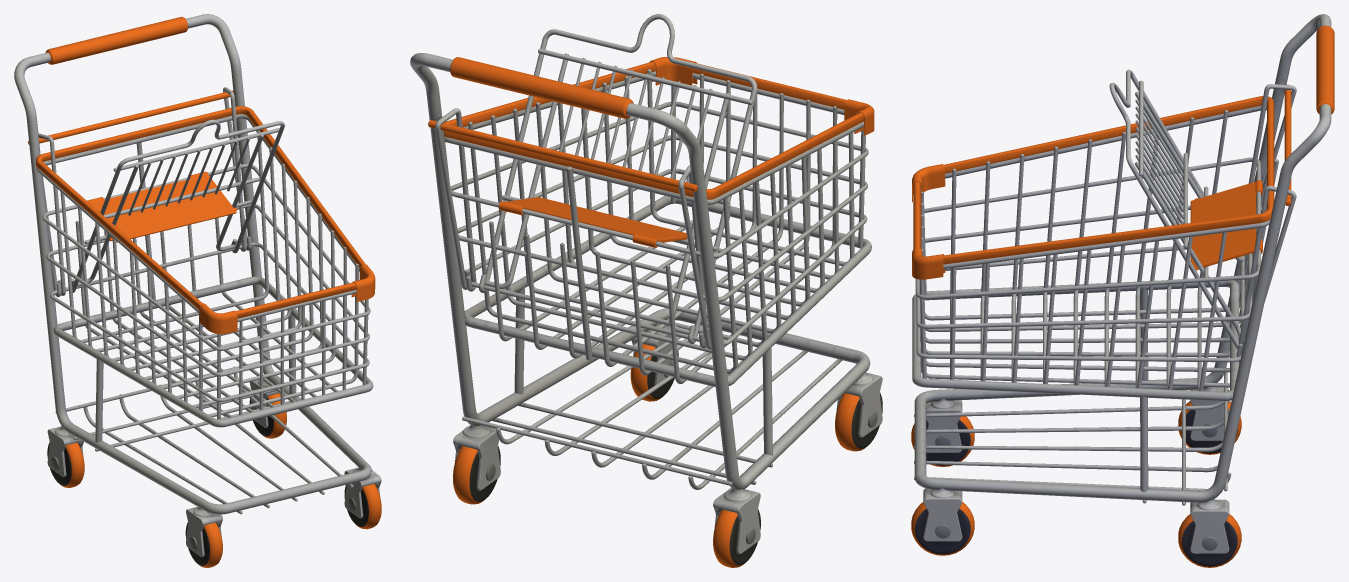
Rendered from carro_compra.glb.
3 renders of one model, left to right at view 1: azimuth 30°, elevation 25°; view 2: azimuth 150°, elevation 25°; view 3: azimuth 270°, elevation 25°, orthographic. The views are drawn at different scales.
Visible parts, largest first — view 1: shopping_cart.1, shopping_cart.002; view 2: shopping_cart.1, shopping_cart.002; view 3: shopping_cart.1, shopping_cart.002.
Boxes of the visible parts, x1,y1,x2,y2 form: shopping_cart.1: (14,14,381,565); shopping_cart.002: (28,16,381,567); shopping_cart.1: (410,14,882,565); shopping_cart.002: (428,57,874,567); shopping_cart.1: (912,14,1331,566); shopping_cart.002: (911,25,1334,567).
Bounding box in the file's own units: 0.1241 × 0.2053 × 0.1762.
Materials: 2 (1 with a texture image).
